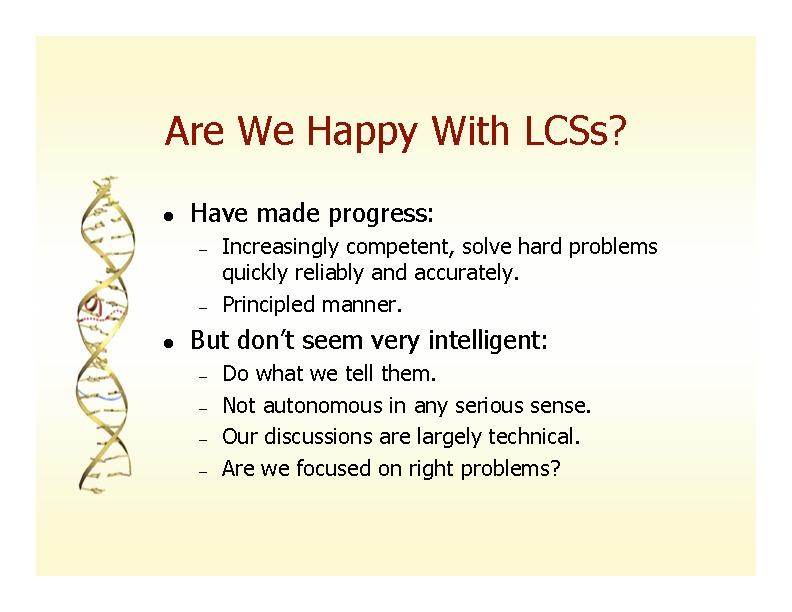paragraph: (158, 190, 701, 521)
title: (157, 94, 644, 167)
